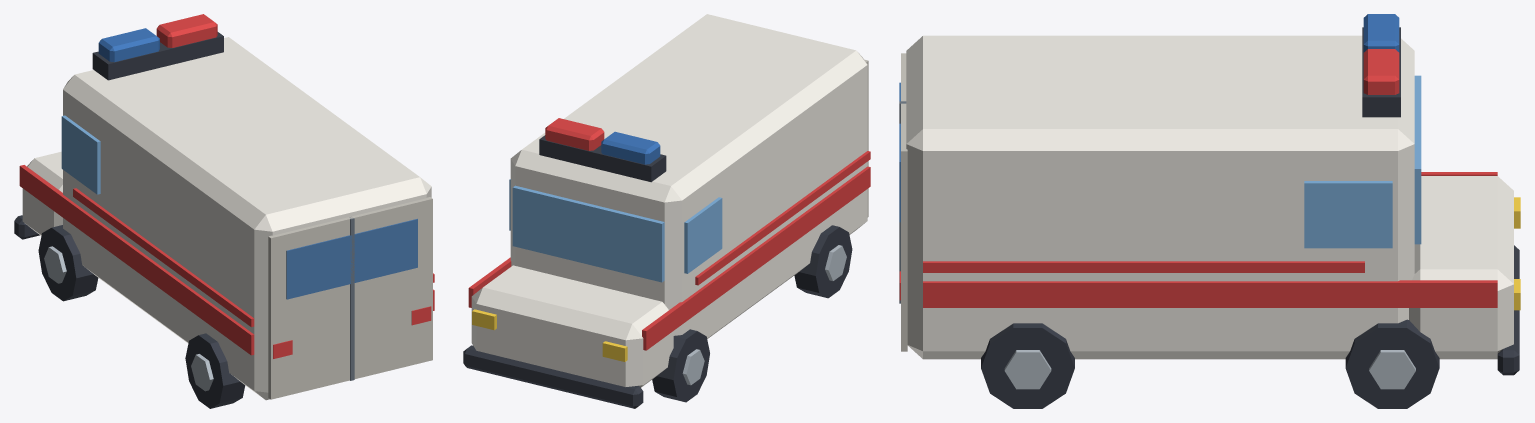
Rendered from ambulancia.glb.
3 renders of one model, left to right at view 1: azimuth 30°, elevation 25°; view 2: azimuth 150°, elevation 25°; view 3: azimuth 270°, elevation 25°, orthographic. The views are drawn at different scales.
Visible parts, largest first — view 1: corpo; view 2: corpo; view 3: corpo.
Boxes of the visible parts, bbox=[...] form: corpo: bbox=[14, 14, 434, 408]; corpo: bbox=[463, 14, 870, 408]; corpo: bbox=[899, 14, 1520, 408].
Bounding box in the file's own units: 0.52 × 0.6108 × 1.12.
